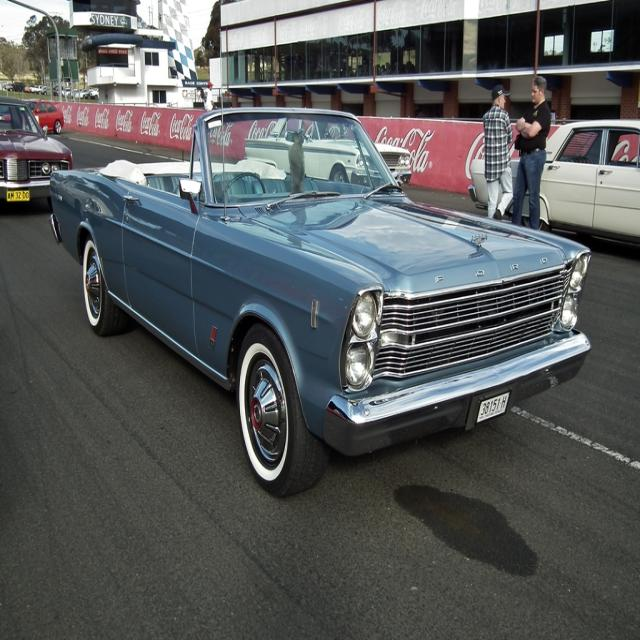car: (45, 14, 599, 542)
